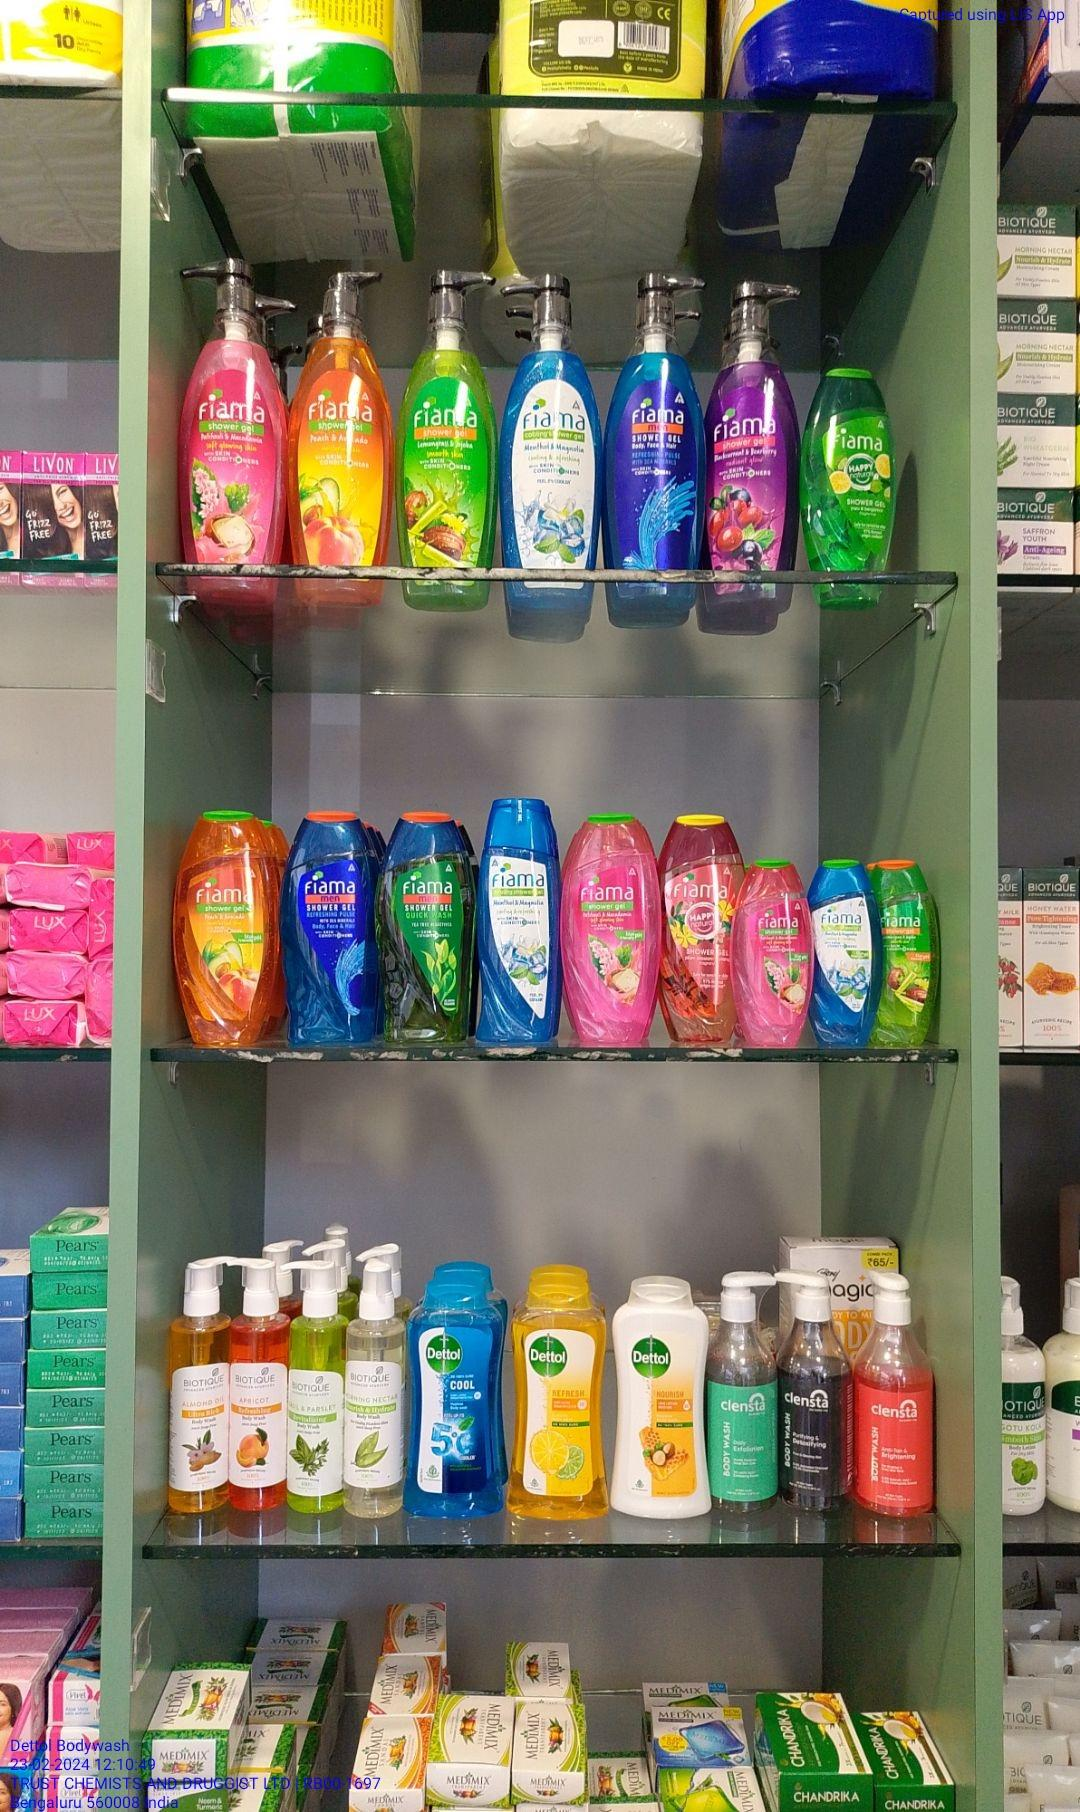Dettol_Bodywash_Cool: (408, 1285, 507, 1516)
Dettol_Bodywash_Refresh: (510, 1266, 607, 1516)
Dettol_Nourish_Body_Wash_250ML: (611, 1276, 707, 1516)
Fiama_Shower_Gel_Patchouli_and_Macadamia_250ML: (561, 815, 658, 1050)
Fiama_Shower_Gel_Peach_and_Avocado_250ML: (166, 811, 274, 1050)
